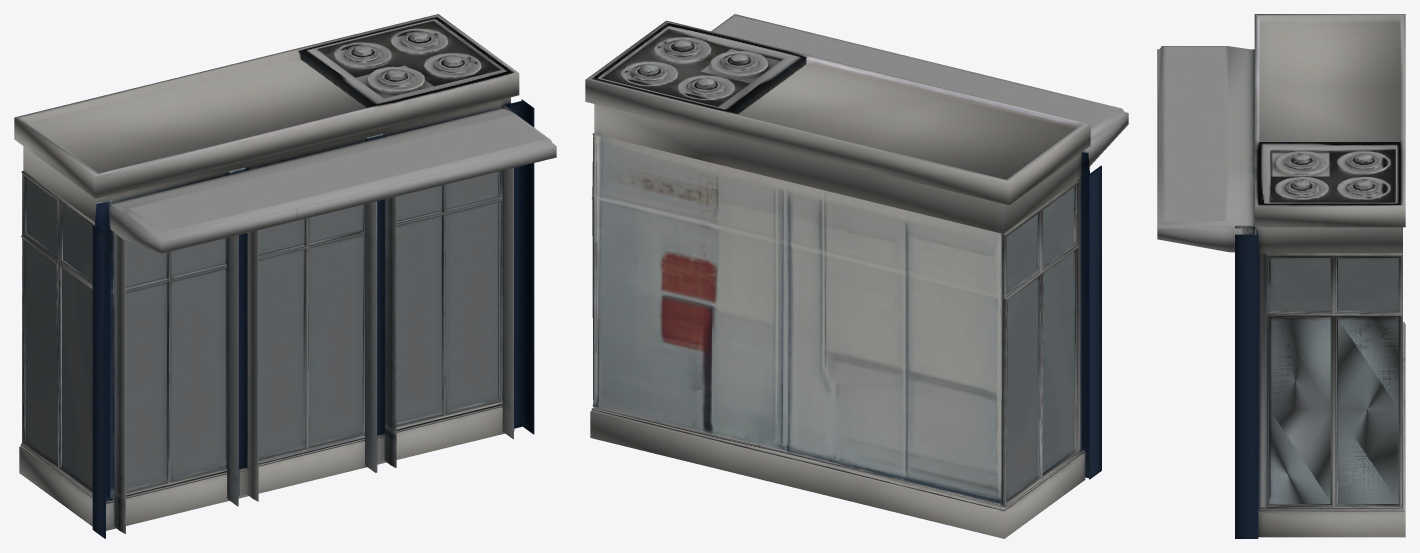
The model's file is terminal_fachada.glb.
3 views of the same model, side by side, from view 1: azimuth 30°, elevation 25°; view 2: azimuth 150°, elevation 25°; view 3: azimuth 270°, elevation 25° (orthographic). The views are drawn at different scales.
Visible parts, largest first — view 1: Módulo de fachada do terminal; view 2: Módulo de fachada do terminal; view 3: Módulo de fachada do terminal.
Boxes of the visible parts, box(x1,y1,x2,y2) form: Módulo de fachada do terminal: box(14, 14, 556, 538); Módulo de fachada do terminal: box(585, 14, 1128, 538); Módulo de fachada do terminal: box(1157, 14, 1405, 538).
Size of the model in its own units: 0.998 by 0.8066 by 0.5371.
1 material, 1 textured.
